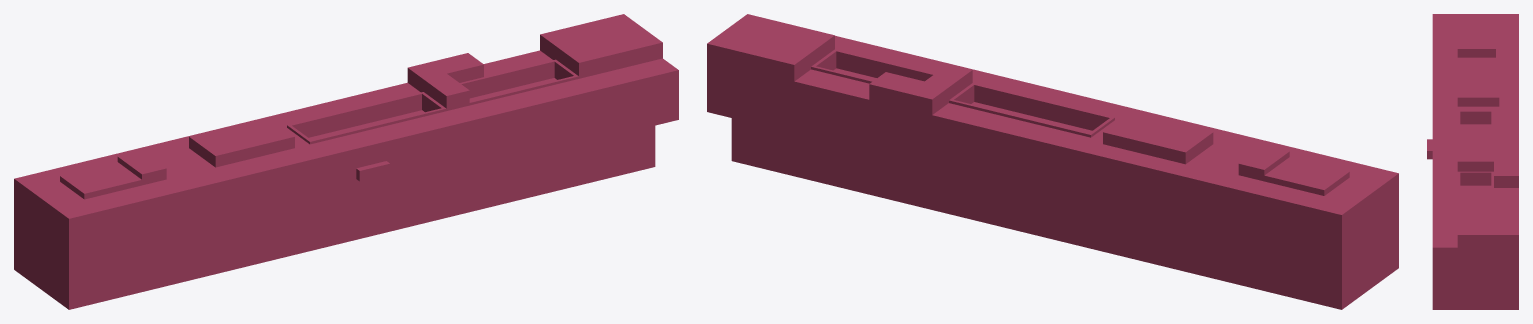
The model's file is SM_Sherfield_building.fbx.
3 views of the same model, side by side, from view 1: azimuth 30°, elevation 25°; view 2: azimuth 150°, elevation 25°; view 3: azimuth 270°, elevation 25° (orthographic). The views are drawn at different scales.
Visible parts, largest first — view 1: SM_Sherfield_building; view 2: SM_Sherfield_building; view 3: SM_Sherfield_building.
Boxes of the visible parts, x1,y1,x2,y2 form: SM_Sherfield_building: (14, 14, 678, 309); SM_Sherfield_building: (707, 14, 1398, 309); SM_Sherfield_building: (1427, 14, 1518, 309).
Size of the model in its own units: 155 by 26.02 by 25.77.
